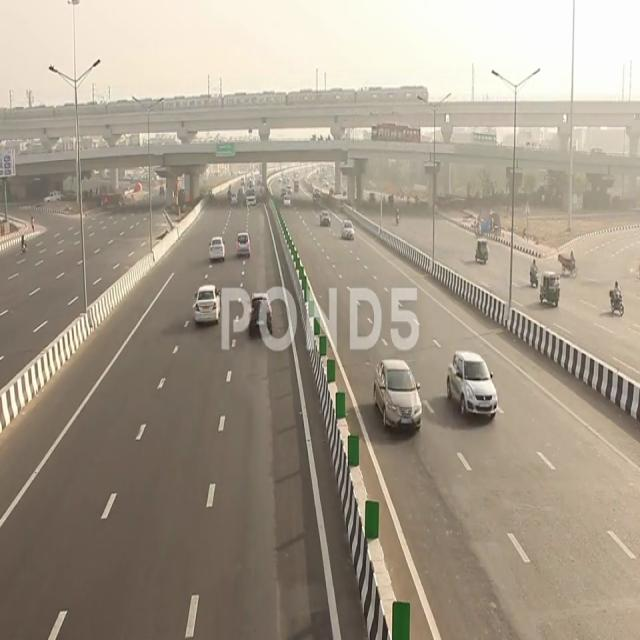car: (366, 347, 426, 446), (444, 353, 498, 433), (187, 280, 221, 328), (245, 293, 277, 344), (208, 232, 225, 262), (236, 229, 249, 261)
motorbike: (608, 281, 625, 319)
rikshaw: (540, 270, 561, 310), (474, 238, 490, 266)
